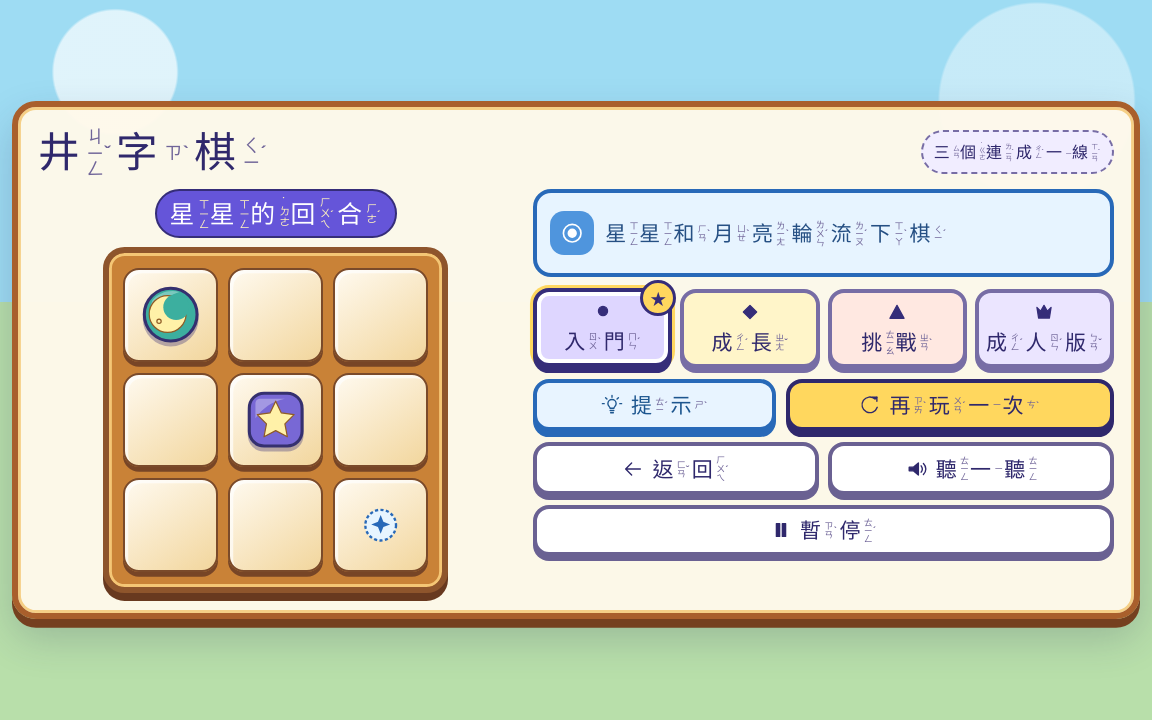
Test: ART-005-r03 井字棋正式可玩流程 › 互動教學依星光格完成跟著做、防守與三連線
Click the 1st cell named "空格" at (276, 315), box [228,268,323,362]
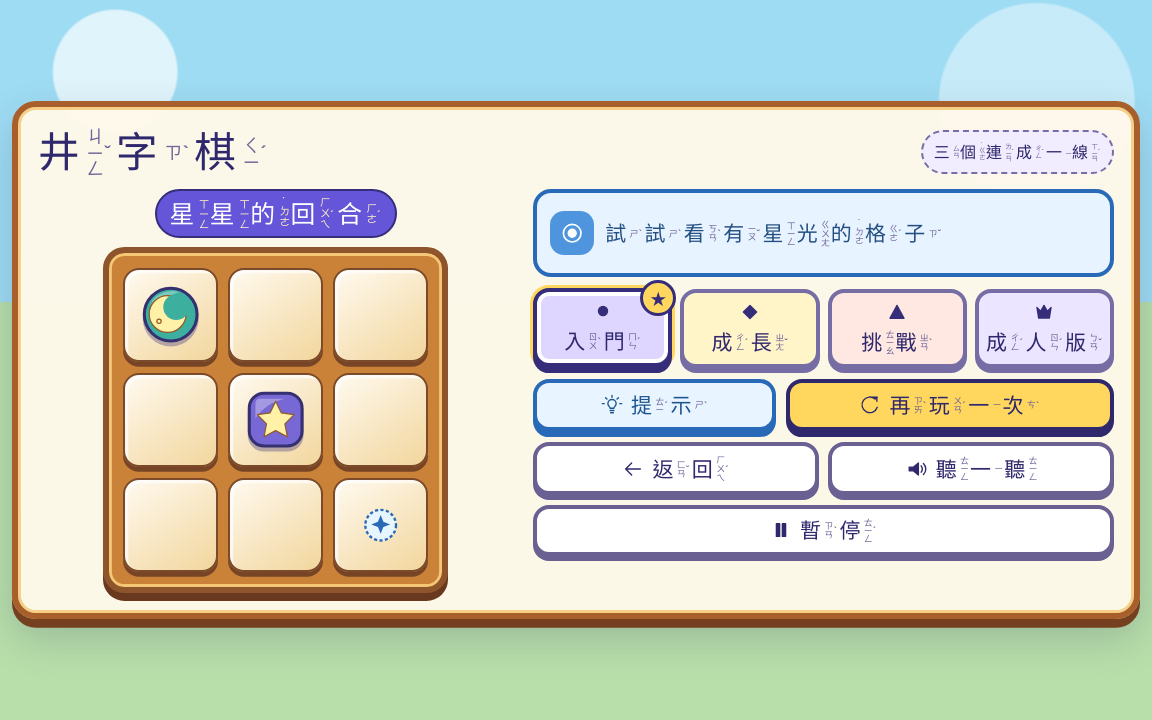
Expected: the element named "試試看有星光的格子" is shown, [605,217,941,247]
Click the 7th cell named "空格" at (381, 525), box [333,478,428,572]
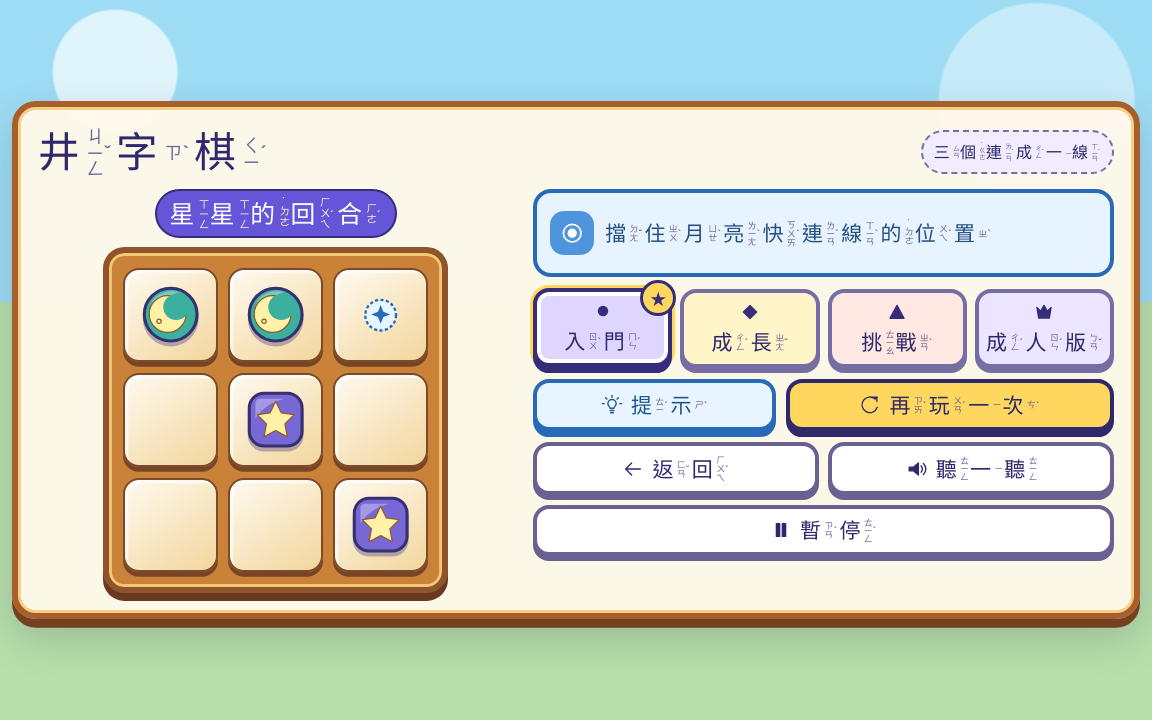
Expected: the element named "擋住月亮快連線的位置" is shown, [605,217,991,247]
Click the 1st cell named "空格" at (381, 315), box [333,268,428,362]
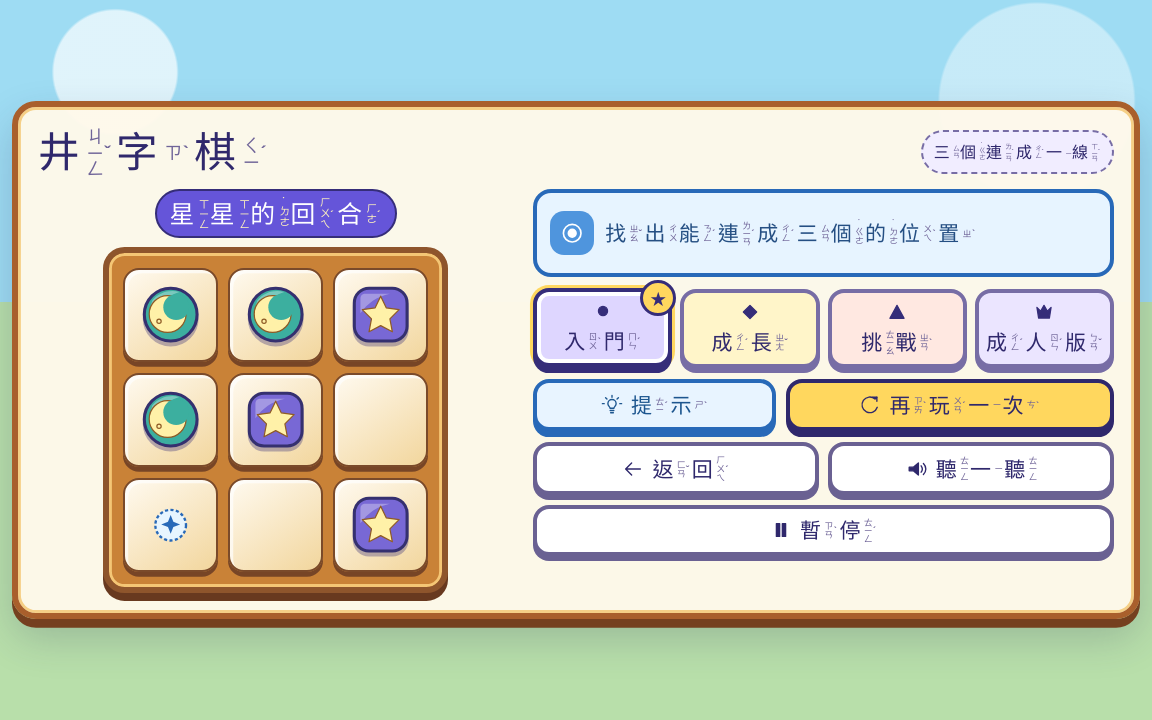
Expected: the element named "找出能連成三個的位置" is shown, [605,217,975,247]
Click the 2nd cell named "空格" at (171, 525), box [123,478,218,572]
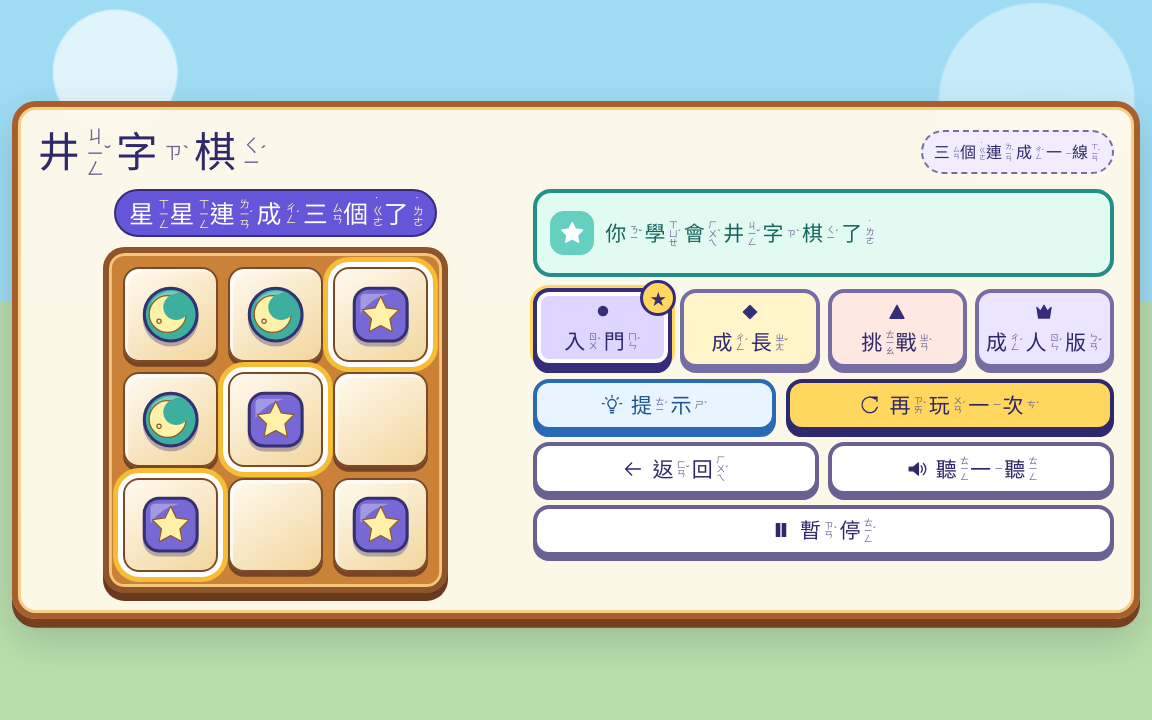
Expected: the message named "星星連成三個了" is shown, [114,189,437,237]
Expected: the element named "你學會井字棋了" is shown, [605,218,877,247]
